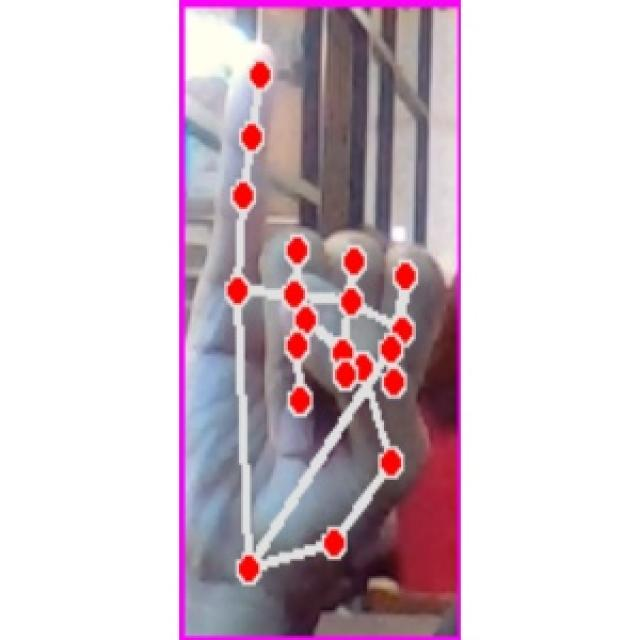I: (192, 30, 451, 624)
